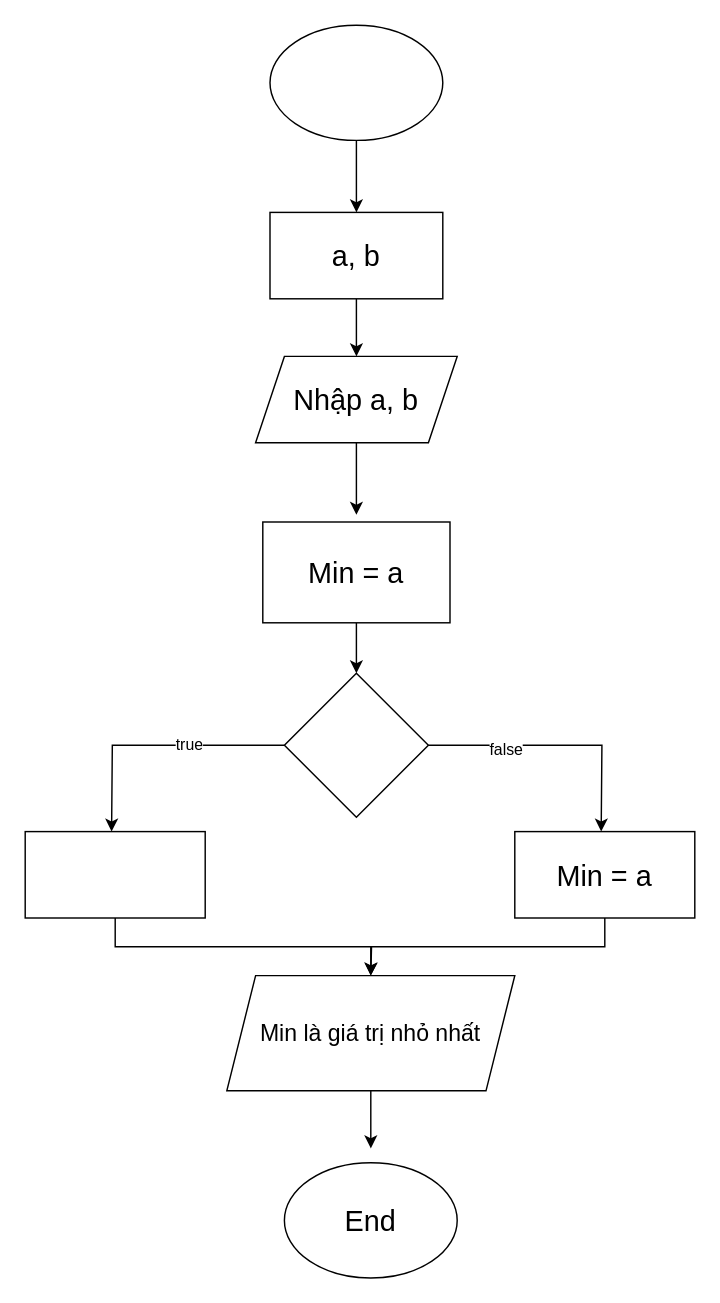
The diagram is 720 pixels wide and 1303 high, and some of its shapes have lost their labels. Here are the shapes that lost their labels. From the top down, the box of each, then its label:
(269, 24, 443, 140): Start
(283, 672, 428, 817): min > b
(24, 830, 205, 918): Min = b
